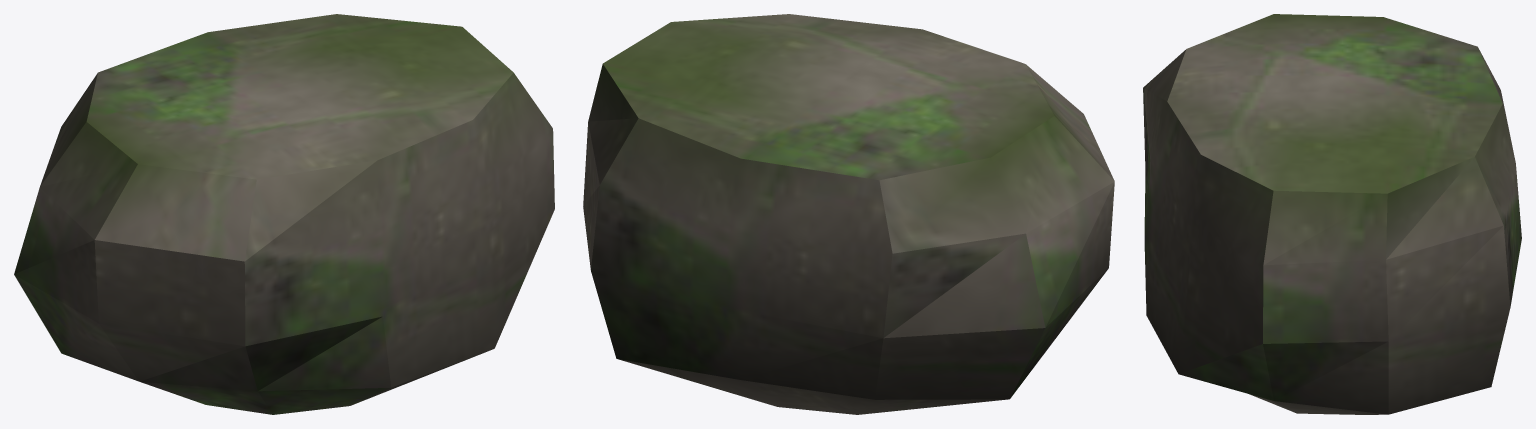
File: rock_boulder_small.glb
3 renders of one model, left to right at view 1: azimuth 30°, elevation 25°; view 2: azimuth 150°, elevation 25°; view 3: azimuth 270°, elevation 25°, orthographic. The views are drawn at different scales.
Parts seen in each view (by area): view 1: rock_boulder_small; view 2: rock_boulder_small; view 3: rock_boulder_small.
Part boxes in pixels (x1,y1,x2,y2): rock_boulder_small: [14, 14, 554, 414]; rock_boulder_small: [583, 14, 1114, 414]; rock_boulder_small: [1143, 14, 1521, 414].
Size of the model in its own units: 0.97 by 0.549 by 0.7036.
1 material, 1 textured.
